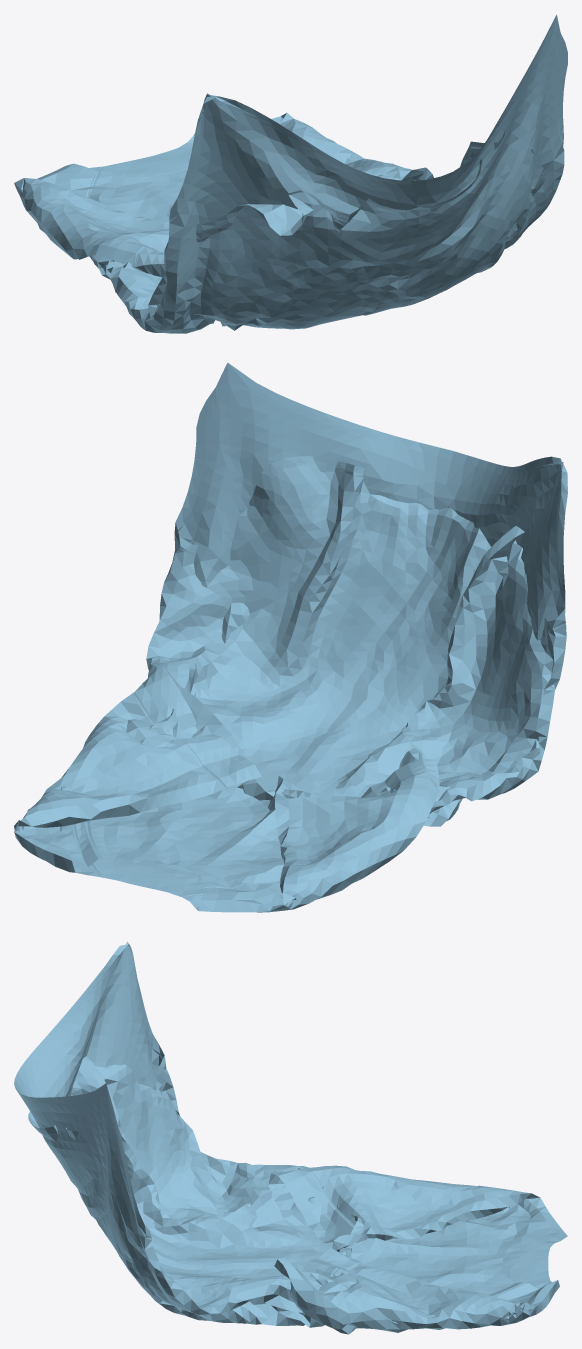
File: frame_07.glb
3 views of the same model, one above another, from view 1: azimuth 30°, elevation 25°; view 2: azimuth 150°, elevation 25°; view 3: azimuth 270°, elevation 25° (orthographic). The views are drawn at different scales.
Visible parts, largest first — view 1: frame_07.obj; view 2: frame_07.obj; view 3: frame_07.obj.
Part boxes in pixels (x1,y1,x2,y2): frame_07.obj: [14, 14, 567, 333]; frame_07.obj: [14, 362, 567, 912]; frame_07.obj: [14, 941, 567, 1334].
Bounding box in the file's own units: 1.15 × 0.8266 × 1.59.
